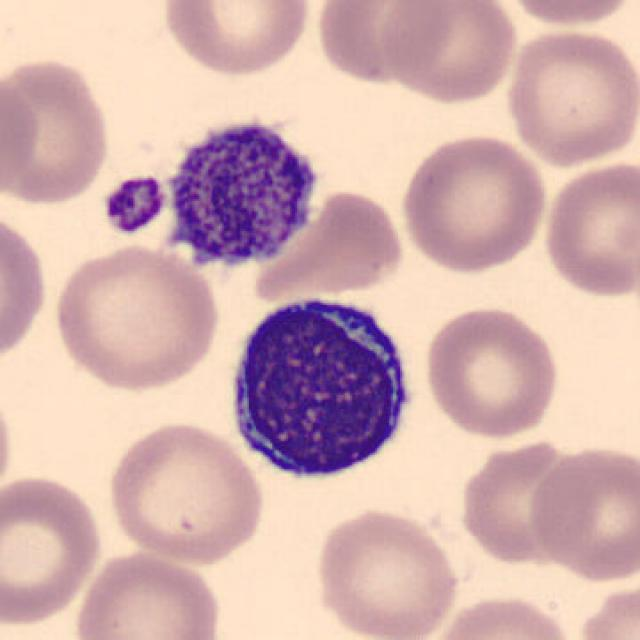Lymphocyte: (217, 286, 423, 490), (158, 110, 329, 280)
Platelets: (98, 173, 169, 238)
RBC: (48, 240, 224, 393), (103, 418, 267, 566), (396, 131, 550, 275), (311, 504, 464, 640), (421, 301, 562, 441), (244, 185, 411, 303), (502, 25, 638, 169), (0, 51, 116, 208), (455, 436, 589, 568), (0, 470, 105, 628), (526, 441, 638, 584), (379, 0, 521, 106), (539, 155, 638, 302), (71, 548, 226, 640), (311, 0, 459, 88), (158, 0, 314, 79), (0, 207, 52, 370), (425, 590, 578, 640), (0, 62, 43, 206), (572, 578, 640, 640), (500, 0, 638, 30), (0, 374, 18, 513)
